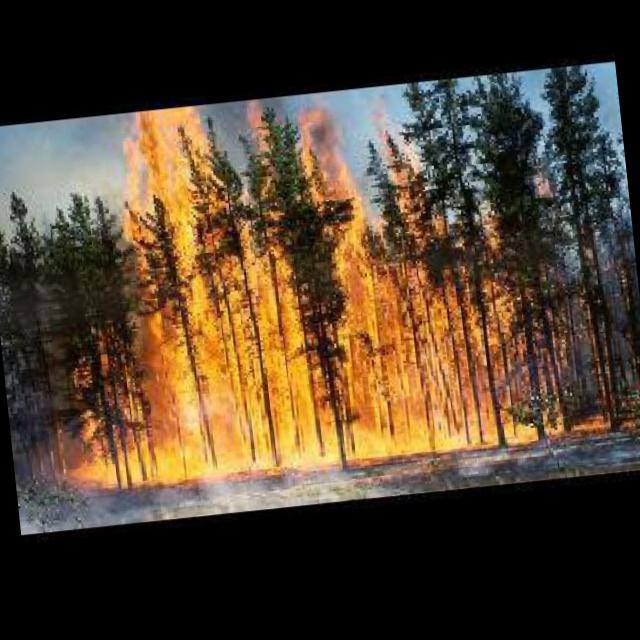fire: (19, 79, 574, 493)
